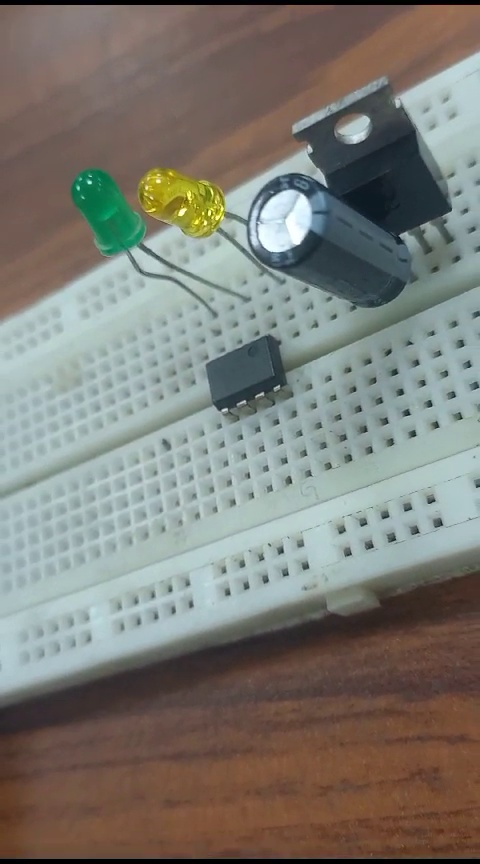IC: (198, 336, 292, 423)
LED: (66, 160, 144, 287), (143, 151, 242, 251)
capacitor: (252, 180, 427, 305)
voltage regulator: (271, 81, 455, 213)
